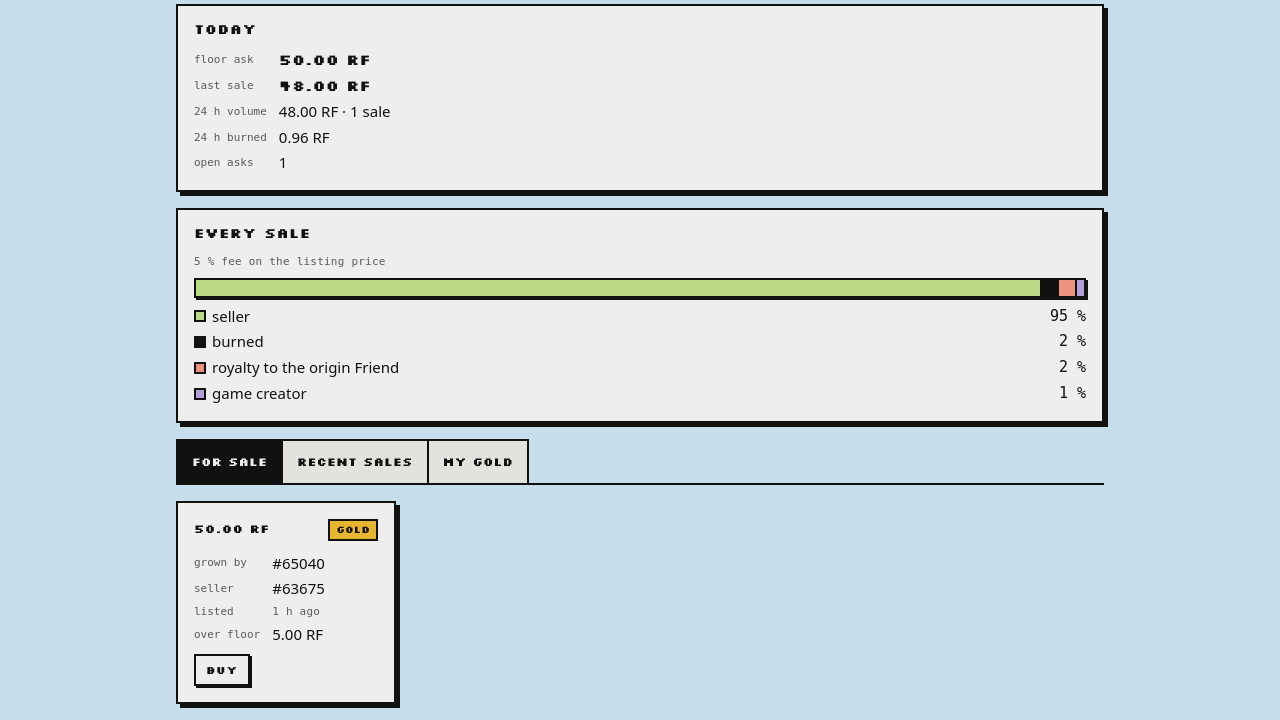
Test case: MarketPage › shows the book stats and confirms a simulated purchase at the exact price
(page scrolled)
Expected: the text "48.00 RF" is shown, [279,76,371,95]
Click the button with aria-label "buy gold pixel 11 for 50.00 RF" at (222,670), box [194,654,250,686]
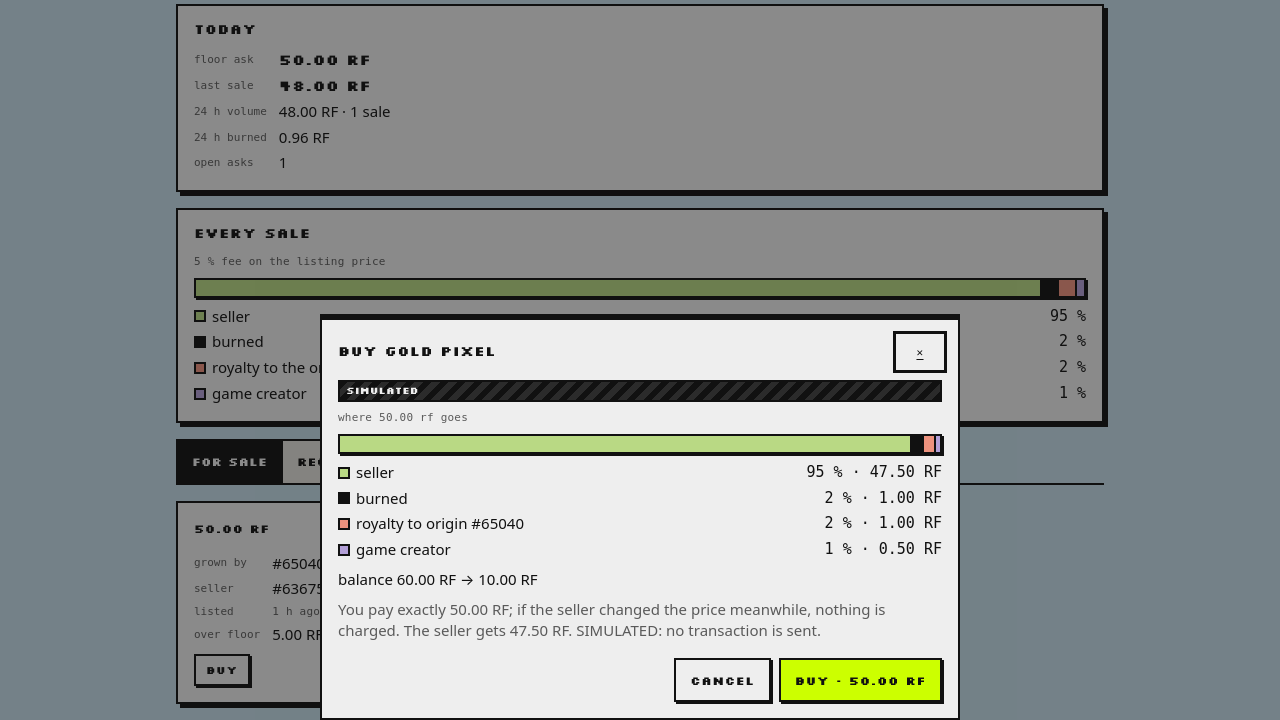
Now the text "royalty to origin #65040" is shown, box [338,513,524,535]
Now the text "95 % · 47.50 RF" is shown, box [806,462,942,484]
Now the text "2 % · 1.00 RF" is shown 2 times, box [825,488,942,509]; [825,513,942,535]
Click the button "buy · 50.00 RF" at (860,680), box [779,658,942,702]
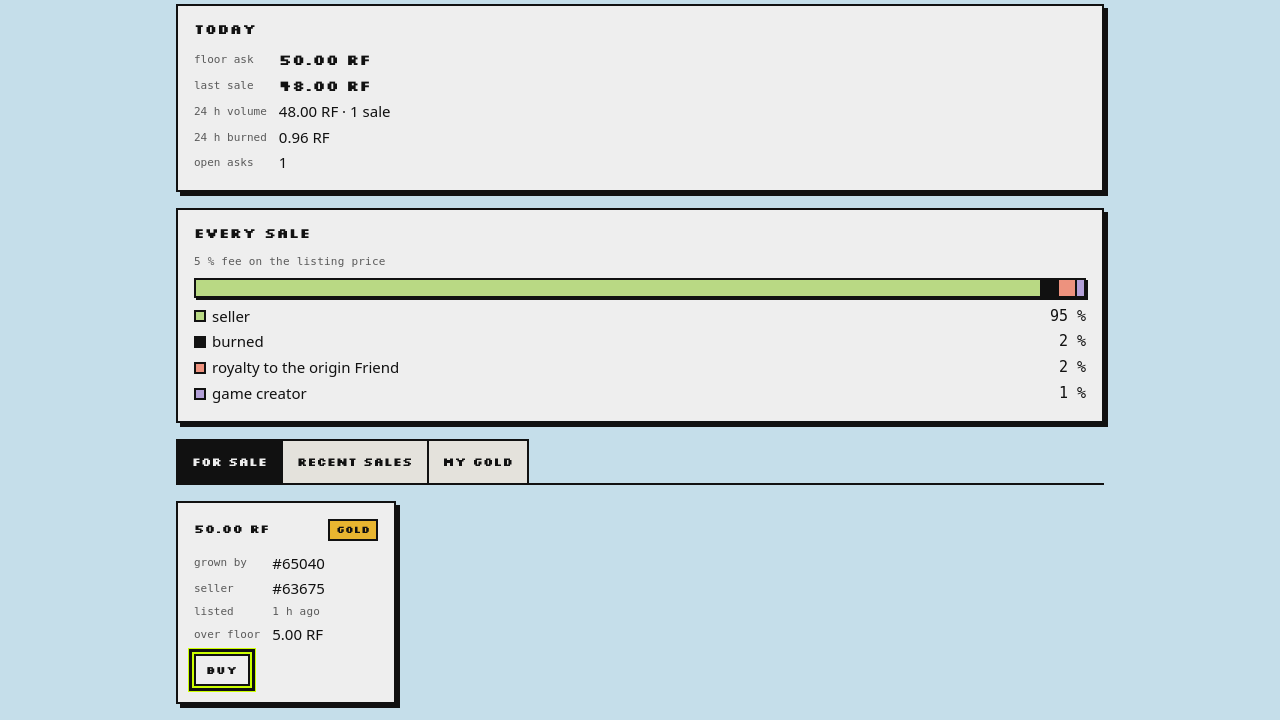
Now the dialog is gone
